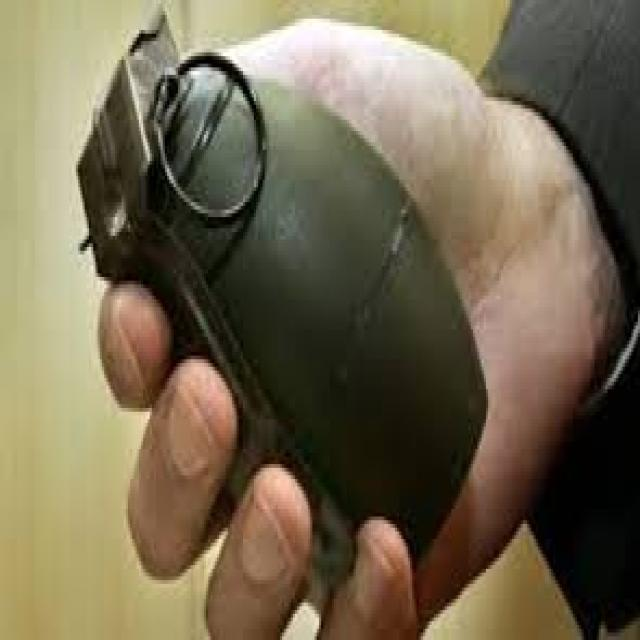grenade: (68, 5, 492, 601)
